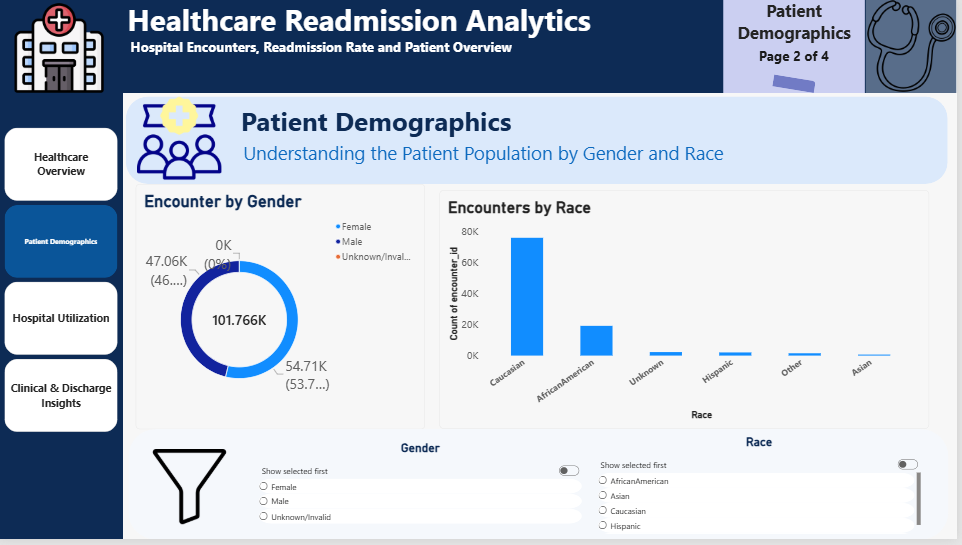

The dashboard page shown, as its layout file describes it:
{"tool":"powerbi","page":{"name":"Patient Demographics","canvas":[1920,1080],"ordinal":1},"visuals":[{"type":"textbox","box":[245.2,0,1673.8,188.1],"z":0},{"type":"image","box":[0,0,214.3,1081],"z":1000},{"type":"image","box":[19,0,259.5,1081],"z":2000},{"type":"image","box":[35.7,7.1,178.6,181],"z":3000},{"type":"image","box":[1736.6,0,182.9,187.8],"z":4000},{"type":"shape","title":"Patient Demographics","box":[1453.7,0,282.9,187.8],"z":5000},{"type":"donutChart","title":"Encounter by Gender","fields":{"Category":["healthcare_readmission_analytics readmissions.gender"],"Y":["CountNonNull(healthcare_readmission_analytics readmissions.encounter_id)"]},"box":[278.6,369,578.6,490.5],"z":6000},{"type":"clusteredColumnChart","title":"Encounters by Race","fields":{"Category":["healthcare_readmission_analytics readmissions.race"],"Y":["CountNonNull(healthcare_readmission_analytics readmissions.encounter_id)"]},"box":[885.4,383.3,979.2,477.1],"z":7000},{"type":"shape","box":[261.9,859.5,1640.5,221.4],"z":8000},{"type":"image","box":[181,900,409.5,150],"z":9000},{"type":"listSlicer","title":"Gender","fields":{"Values":["healthcare_readmission_analytics readmissions.gender"]},"box":[507.1,869,678.6,211.9],"z":10000},{"type":"listSlicer","title":"Race","fields":{"Values":["healthcare_readmission_analytics readmissions.race"]},"box":[1185.4,858.3,678.6,211.9],"z":11000},{"type":"shape","title":"Patient Demographics","box":[258.3,193.8,1643.8,175],"z":12000},{"type":"textbox","box":[491.7,281.2,1116.7,118.8],"z":13000},{"type":"image","box":[279.2,187.5,168.8,181.2],"z":14000},{"type":"pageNavigator","box":[14,258,226,610],"z":14001}]}

Visuals, with their boxes on the page's 1920x1080 design canvas (x1, y1, x2, y2). These are canvas units, not pixel positions in the 962x545 screenshot, which may show the page scaled, cropped or inside an application window:
textbox: box=[245, 0, 1919, 188]
image: box=[0, 0, 214, 1081]
image: box=[19, 0, 278, 1081]
image: box=[36, 7, 214, 188]
image: box=[1737, 0, 1920, 188]
"Patient Demographics" shape: box=[1454, 0, 1737, 188]
"Encounter by Gender" donutChart: box=[279, 369, 857, 860]
"Encounters by Race" clusteredColumnChart: box=[885, 383, 1865, 860]
shape: box=[262, 860, 1902, 1081]
image: box=[181, 900, 590, 1050]
"Gender" listSlicer: box=[507, 869, 1186, 1081]
"Race" listSlicer: box=[1185, 858, 1864, 1070]
"Patient Demographics" shape: box=[258, 194, 1902, 369]
textbox: box=[492, 281, 1608, 400]
image: box=[279, 188, 448, 369]
pageNavigator: box=[14, 258, 240, 868]
